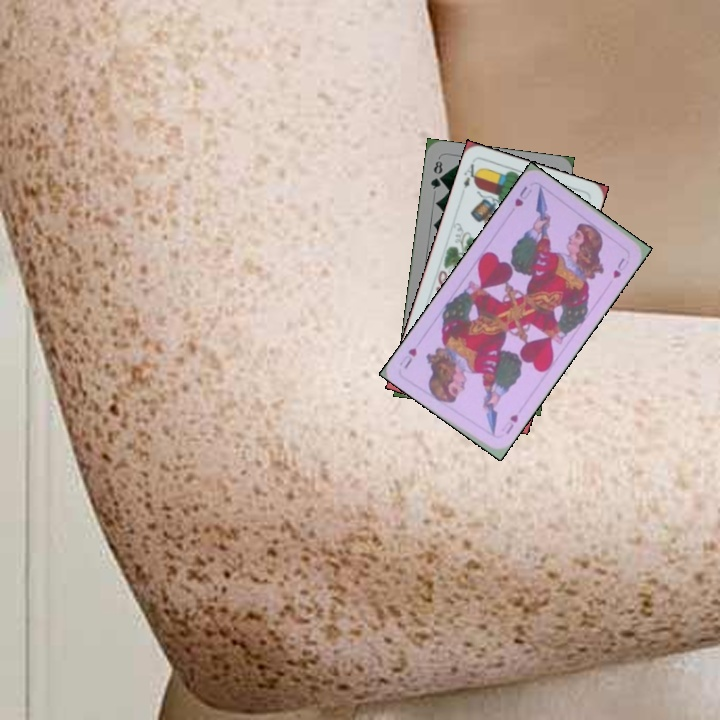EA: (459, 159, 483, 191)
G8: (426, 155, 445, 192)
HU: (510, 182, 534, 209), (498, 410, 521, 437)
